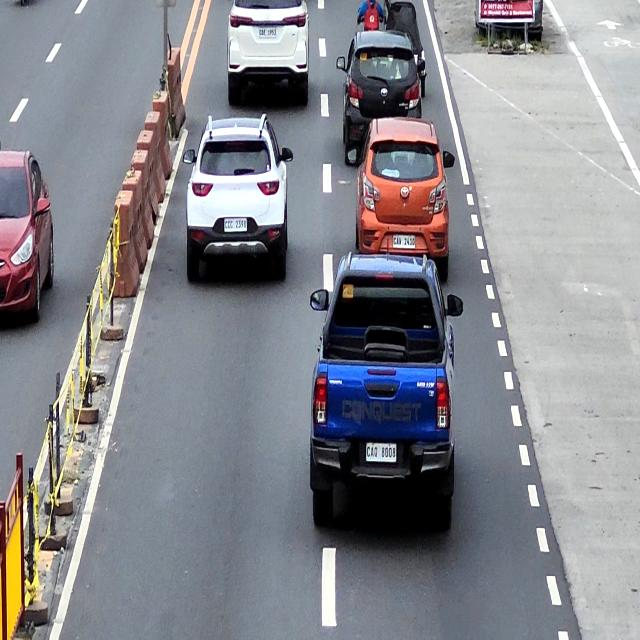Car: (311, 252, 464, 534), (182, 114, 294, 284), (349, 113, 455, 284), (337, 31, 422, 167), (0, 151, 55, 327), (228, 0, 310, 110)
License-Plate: (366, 442, 397, 463), (224, 218, 247, 231), (394, 235, 416, 248), (258, 27, 277, 38)
